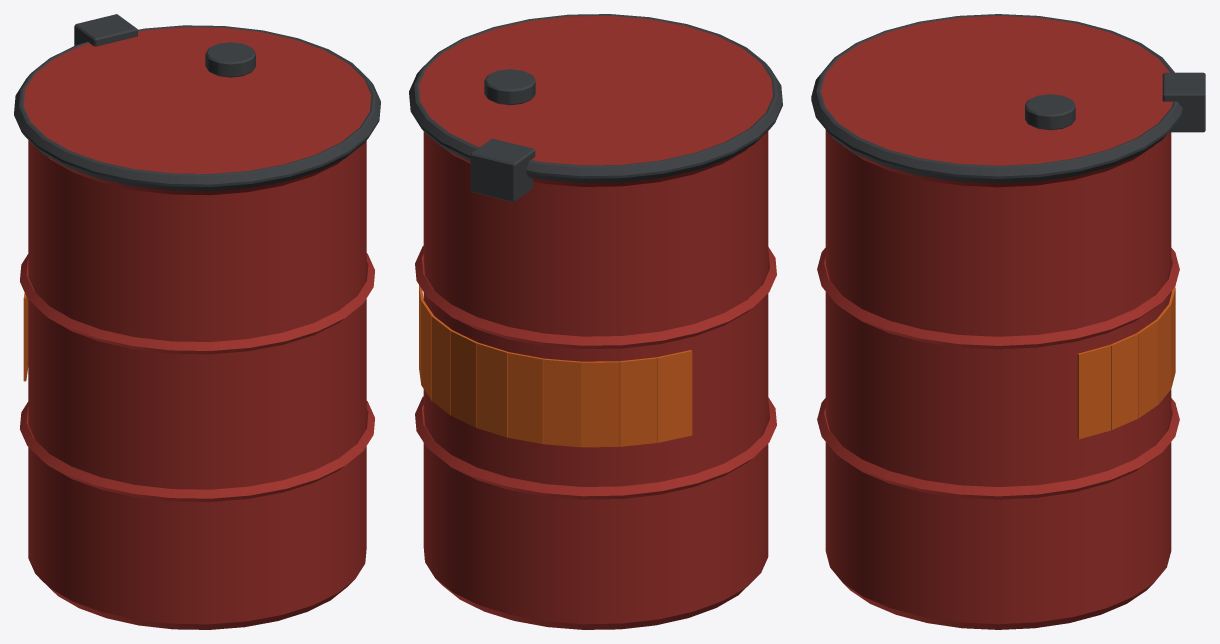
File: prop_loot_thermite_drum.glb
3 renders of one model, left to right at view 1: azimuth 30°, elevation 25°; view 2: azimuth 150°, elevation 25°; view 3: azimuth 270°, elevation 25°, orthographic.
Visible parts, largest first — view 1: Drum; view 2: Drum; view 3: Drum.
Boxes of the visible parts, x1=… form: Drum: x1=14, y1=14, x2=380, y2=629; Drum: x1=409, y1=14, x2=782, y2=629; Drum: x1=811, y1=14, x2=1205, y2=629.
Size of the model in its own units: 0.4336 by 0.62 by 0.4568.
